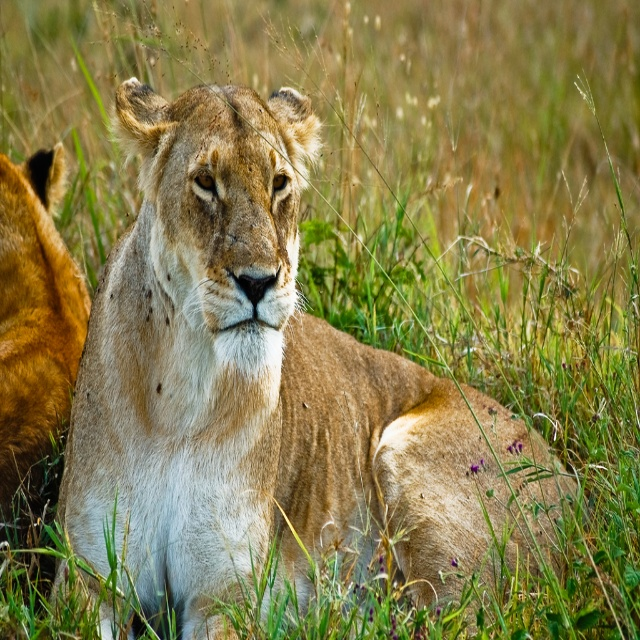Lion: (52, 77, 588, 640)
